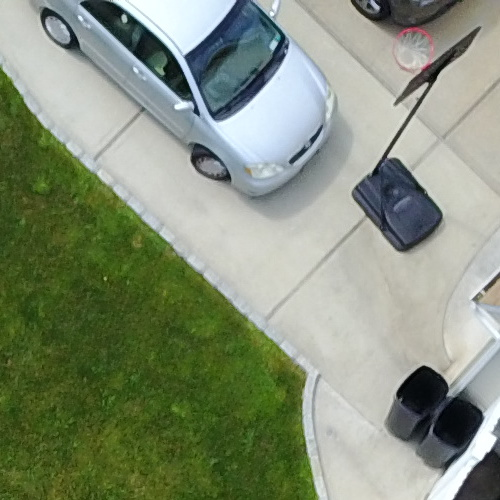basketball: (336, 15, 488, 268)
container: (357, 358, 451, 445), (409, 379, 488, 469)
